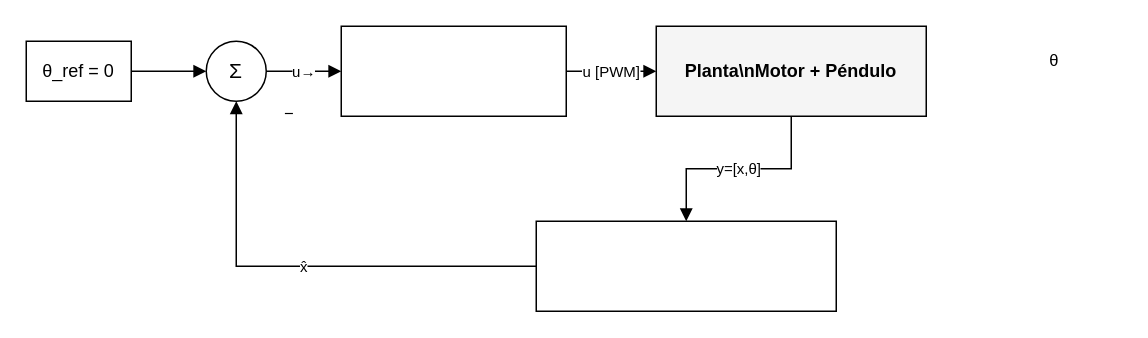
Image size: 1148x338. Some labels were removed from this diagram. Each missing label, with the centre of its shape:
"Ganancia\nu = -K\u00b7x̂" goes at point 453,70.
"Observador de Kalman\nx̂ = Ax̂+Bu+L(y-Cx̂)" goes at point 685,265.
